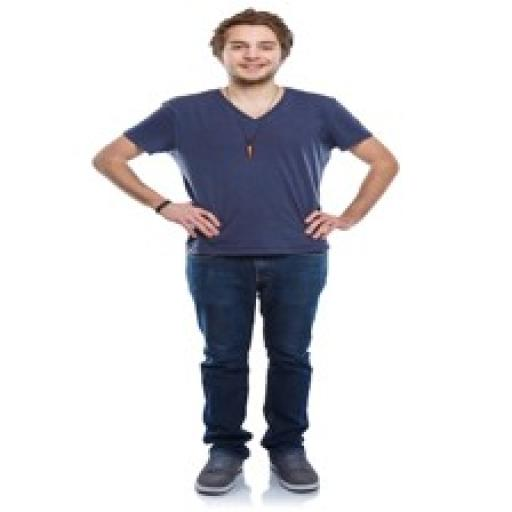human: (87, 2, 410, 504)
